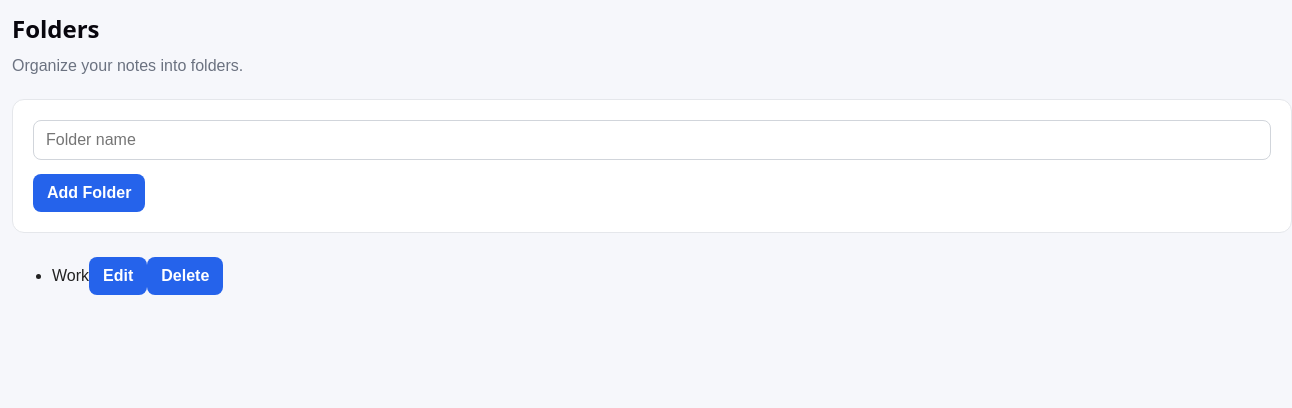
Test: FolderManager › should cancel editing a folder
Click the button "Edit" at [118, 276], box x1=89 y1=257 x2=147 y2=295
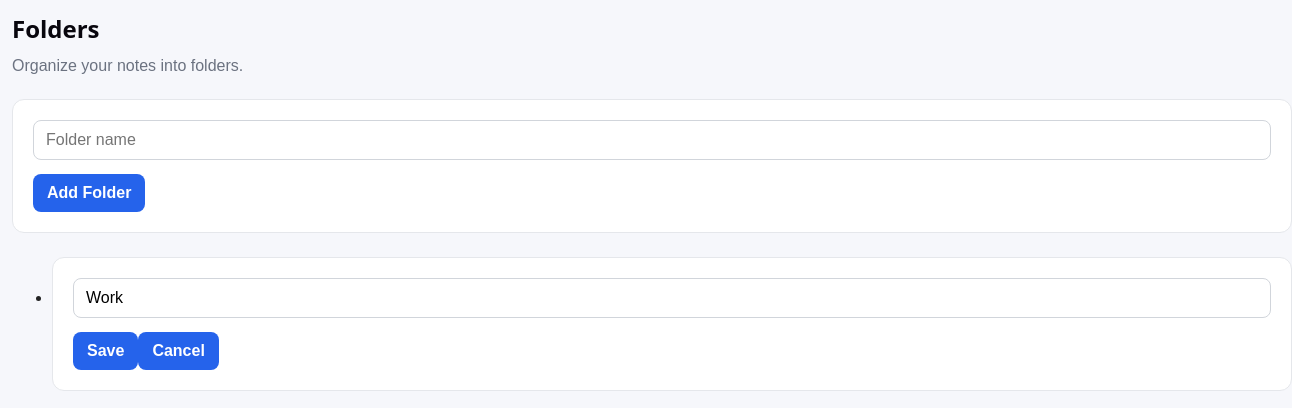
Expected: the field showing "Work" is shown, x1=73 y1=278 x2=1271 y2=318
Click the button "Cancel" at [179, 351], box x1=138 y1=332 x2=219 y2=370
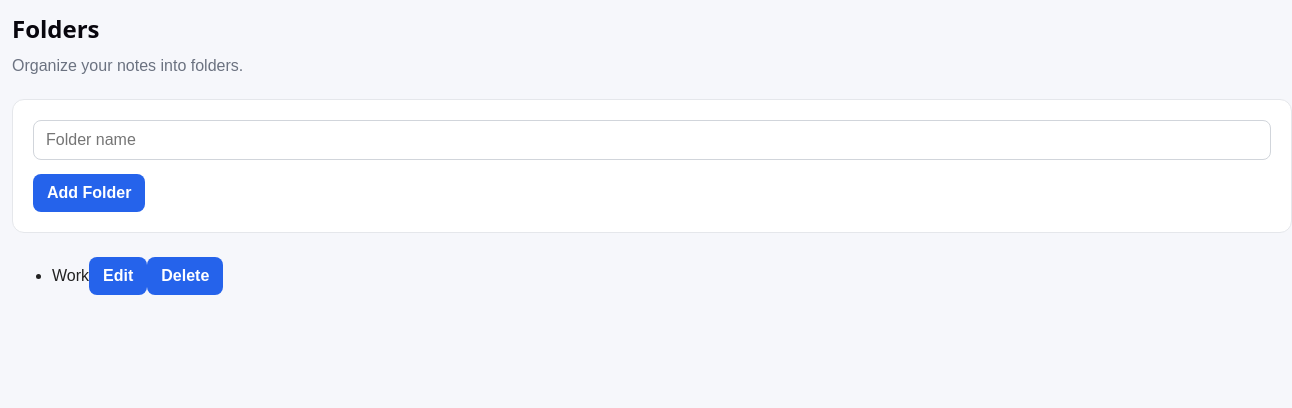
Expected: the field showing "Work" is not shown
Expected: the text "Work" is shown, x1=52 y1=267 x2=89 y2=284
